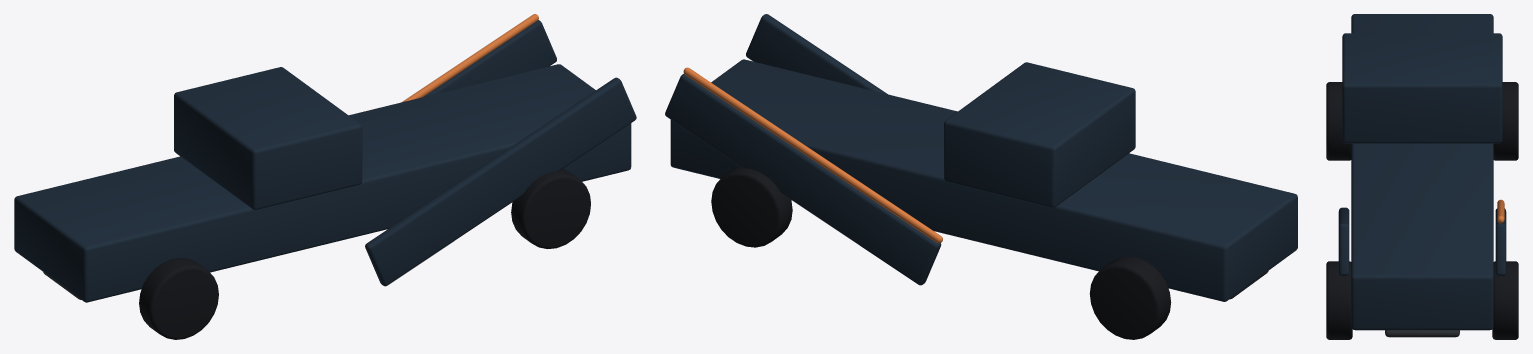
3 views of the same model, side by side, from view 1: azimuth 30°, elevation 25°; view 2: azimuth 150°, elevation 25°; view 3: azimuth 270°, elevation 25° (orthographic). The views are drawn at different scales.
Parts seen in each view (by area): view 1: HerosTruckMark; view 2: HerosTruckMark; view 3: HerosTruckMark.
Boxes of the visible parts, bbox=[...] form: HerosTruckMark: bbox=[14, 14, 636, 339]; HerosTruckMark: bbox=[665, 14, 1297, 339]; HerosTruckMark: bbox=[1326, 14, 1518, 339].
Size of the model in its own units: 3.44 by 1 by 1.06.
